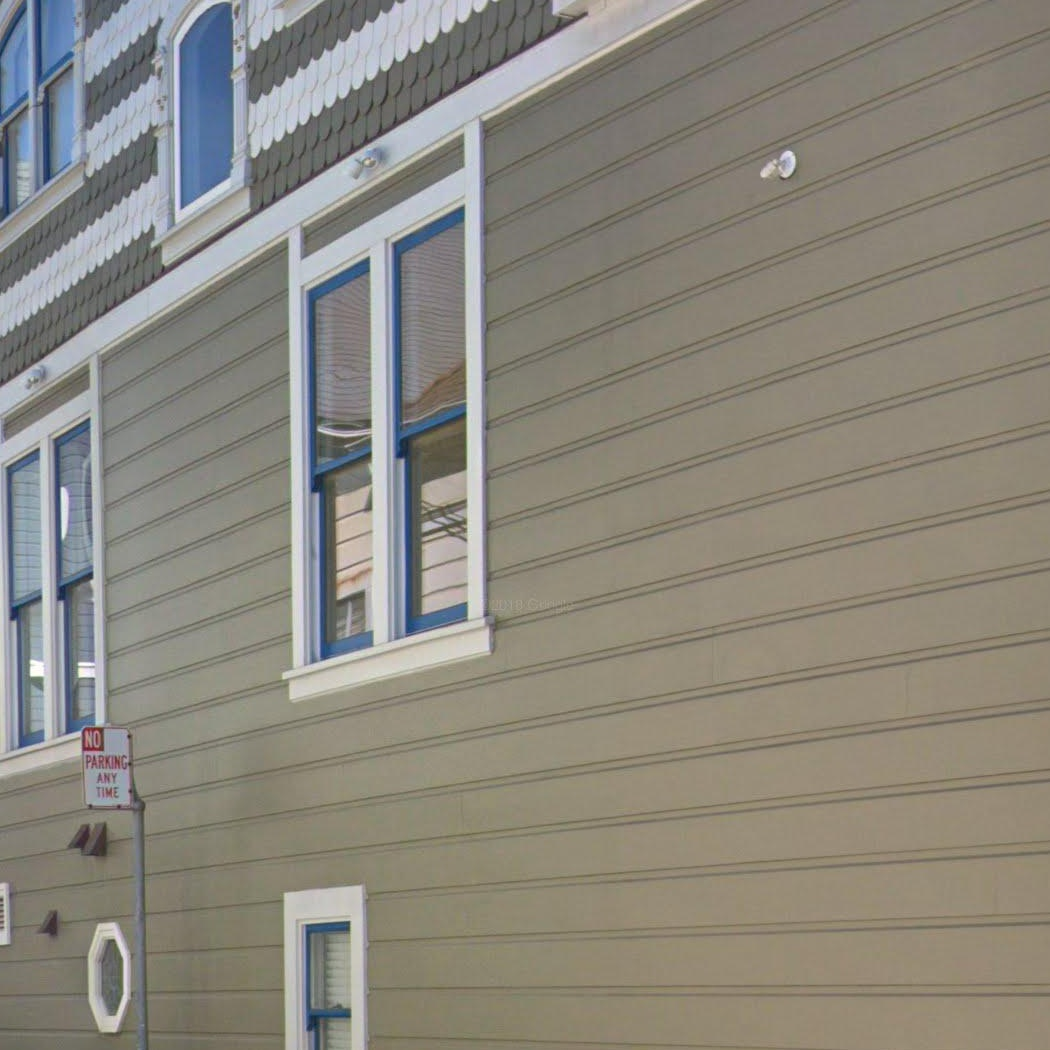No Parking Anytime: (79, 724, 135, 810)
